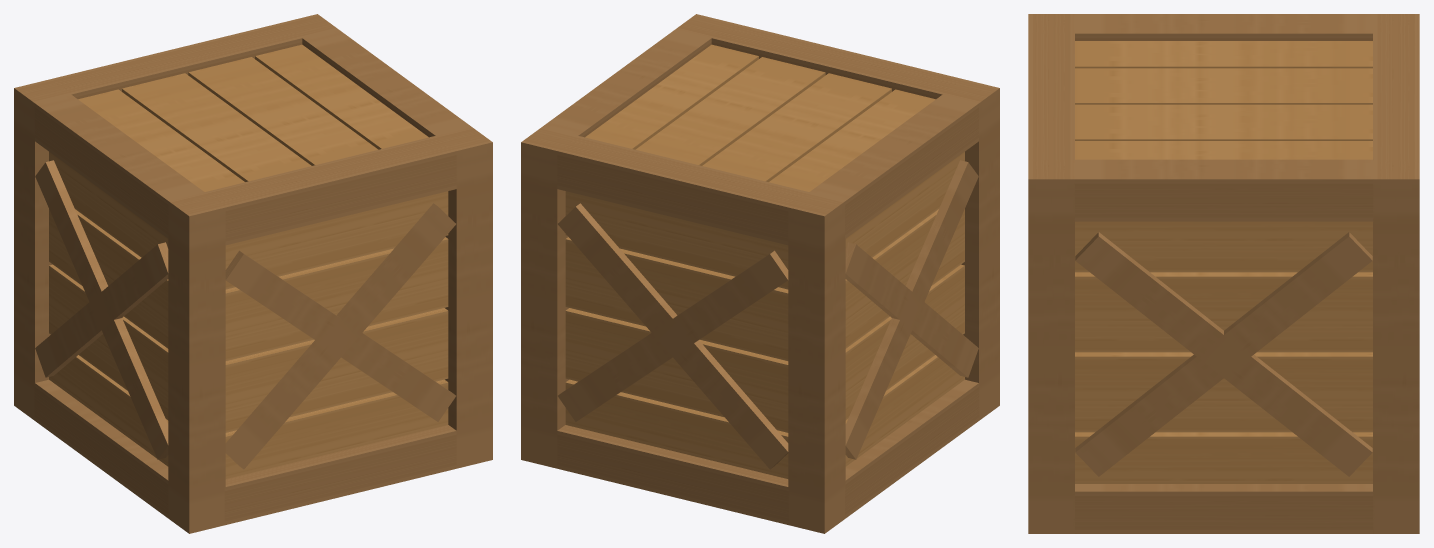
File: crate.glb
3 renders of one model, left to right at view 1: azimuth 30°, elevation 25°; view 2: azimuth 150°, elevation 25°; view 3: azimuth 270°, elevation 25°, orthographic. The views are drawn at different scales.
Parts seen in each view (by area): view 1: beach_crate; view 2: beach_crate; view 3: beach_crate.
Part boxes in pixels (left/top/right/bottom): beach_crate: left=14, top=14, right=492, bottom=533; beach_crate: left=521, top=14, right=999, bottom=533; beach_crate: left=1028, top=14, right=1419, bottom=533.
Bounding box in the file's own units: 0.82 × 0.82 × 0.82.
1 material, 1 textured.
